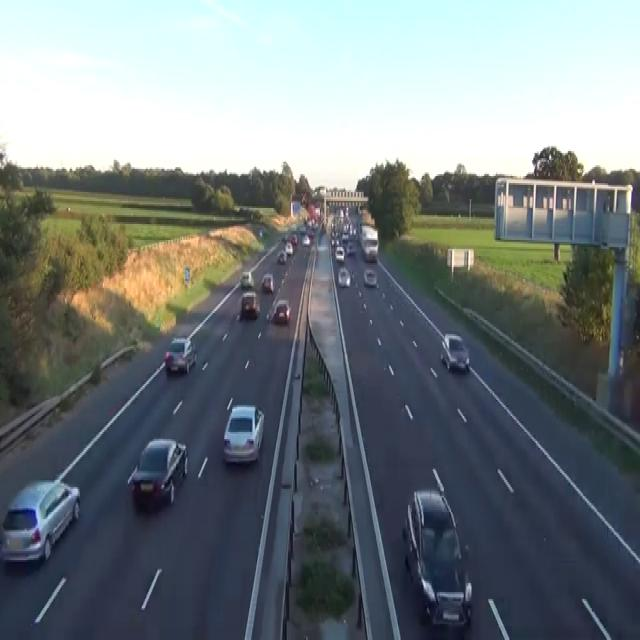Car: (402, 487, 472, 628), (0, 476, 80, 566), (127, 438, 188, 508), (222, 404, 264, 464), (164, 336, 197, 373), (440, 332, 469, 372), (266, 298, 291, 324), (240, 290, 260, 318), (260, 272, 274, 293), (363, 267, 377, 286), (240, 270, 254, 288), (337, 267, 350, 286), (266, 302, 275, 322), (335, 246, 345, 262), (285, 240, 293, 256), (277, 249, 286, 263), (346, 242, 355, 254), (258, 226, 268, 236), (289, 233, 297, 245), (341, 231, 349, 242), (302, 235, 310, 245), (306, 228, 314, 236), (301, 194, 307, 204), (299, 226, 306, 233), (281, 234, 287, 242), (259, 228, 262, 236)
